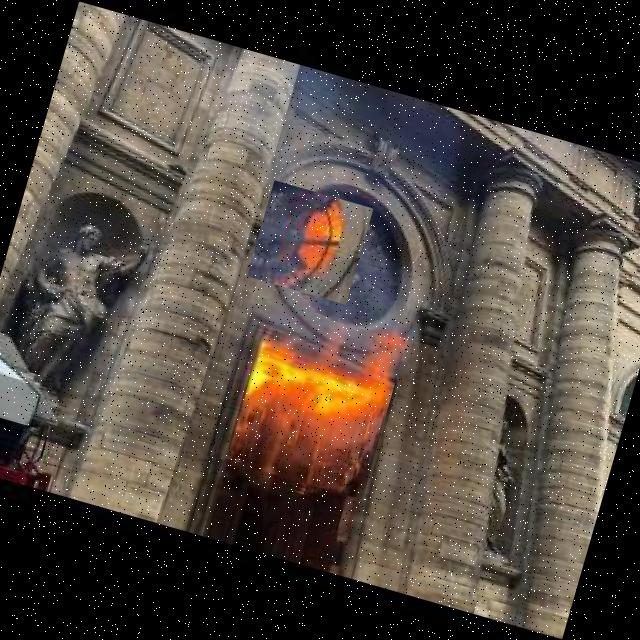fire: (206, 294, 408, 500), (246, 180, 373, 304)
